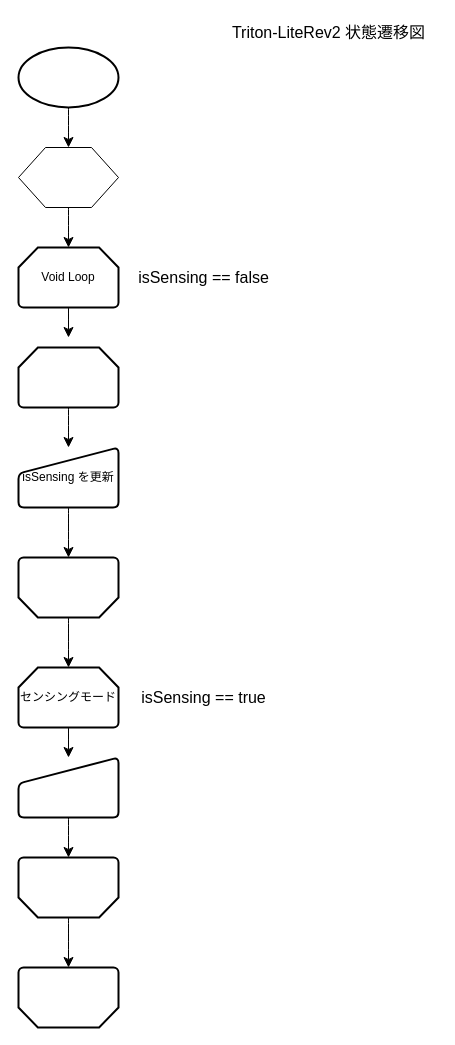
Image size: 455x1045. Some labels were removed from this diagram. The centre of each missing label's shape, as x and y in pixels:
"isSensingを更新" belongs at pixel 68 787.
"待機モード" belongs at pixel 68 377.
